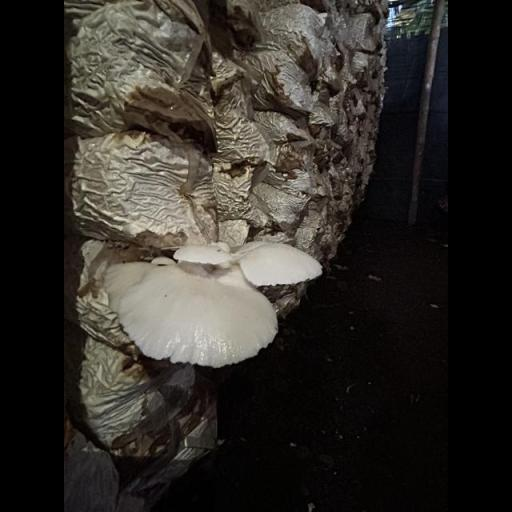White Oyster Mushroom: (96, 235, 329, 371)
